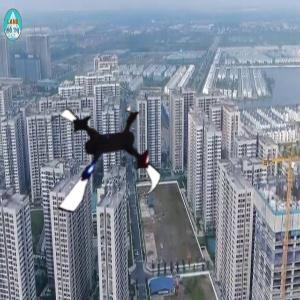drone: (36, 93, 169, 226)
